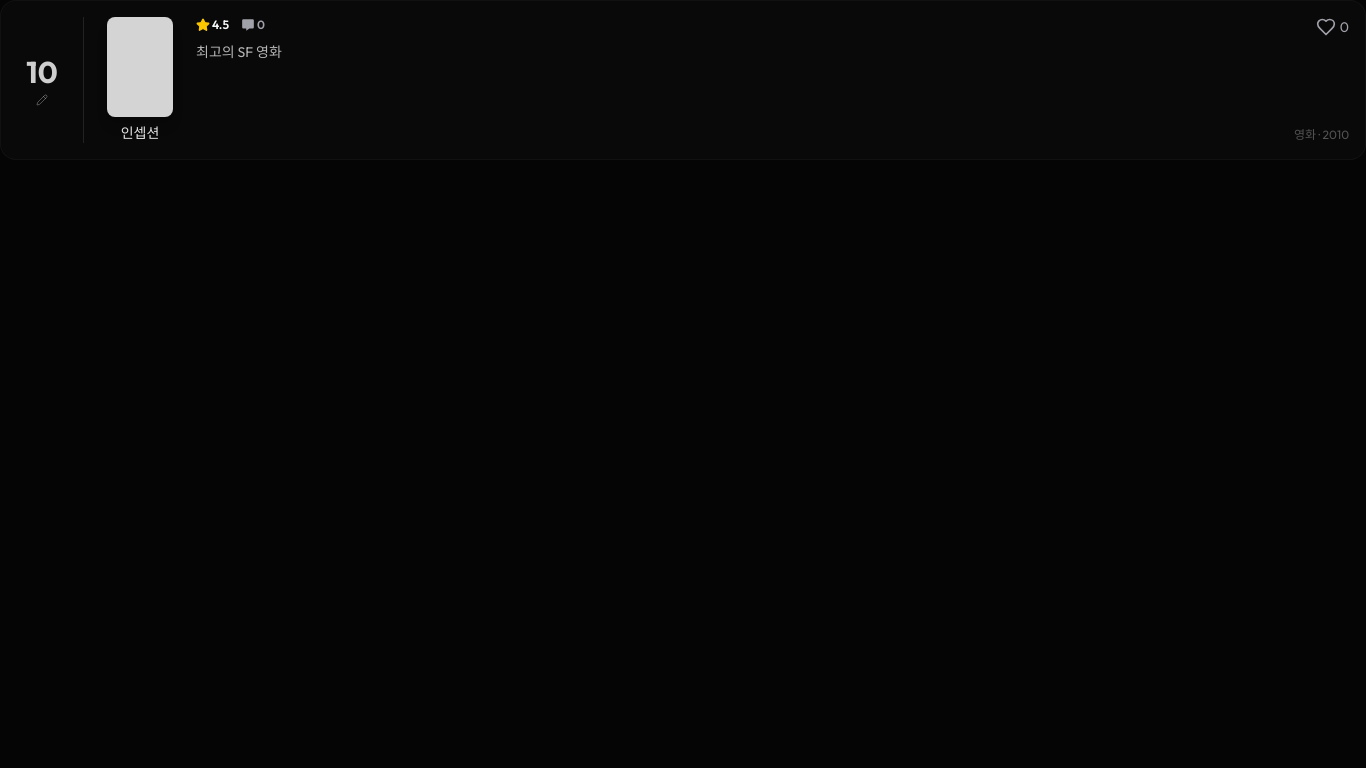
Test case: WatchlistCard › 리뷰가 있는 감상 기록 수정 › 좋아요 후 수정 모달을 열면 최신 좋아요 수로 초기화 경고를 표시해야 한다
Click the button named "좋아요" at [1332, 27], box [1316, 17, 1349, 37]
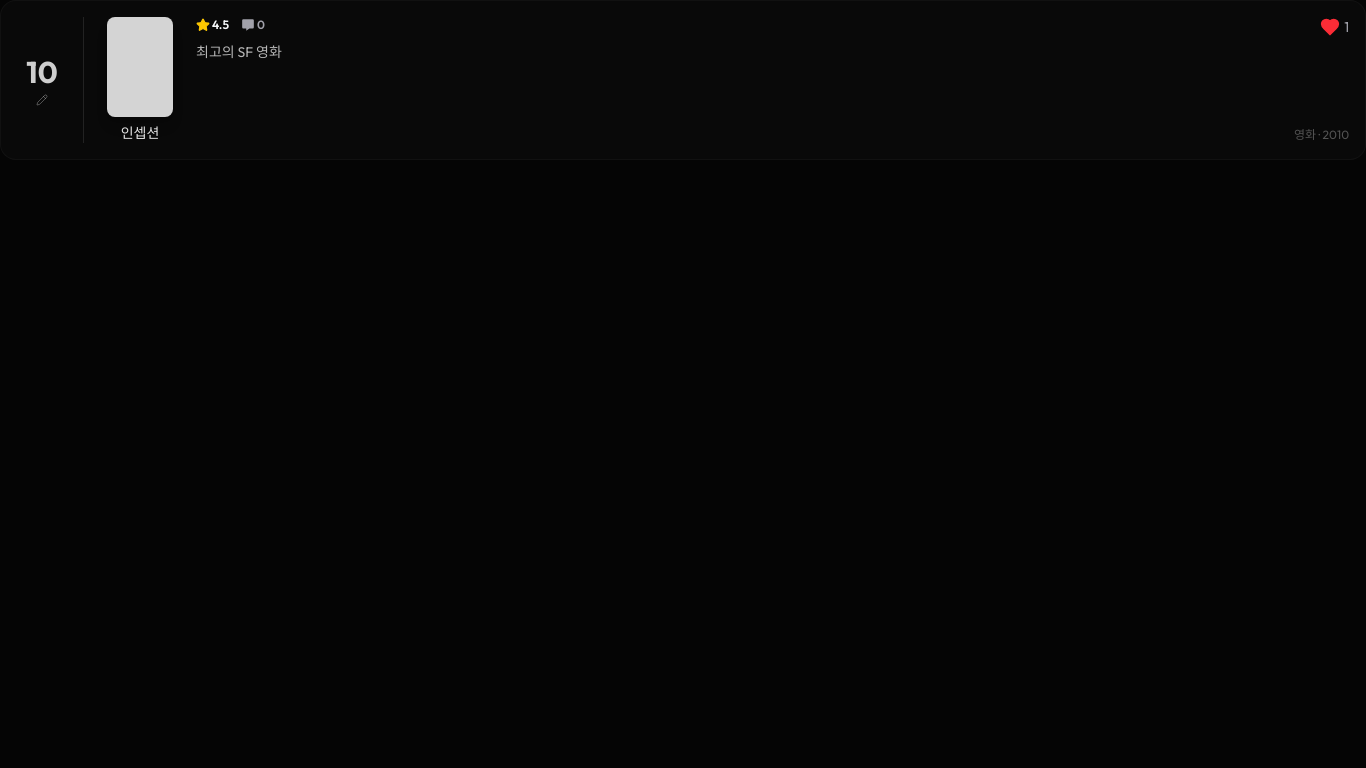
Check: the button named "좋아요" reads "1", box [1320, 17, 1349, 37]
Click the button titled "감상 기록 수정" at [42, 80], box [17, 17, 67, 143]
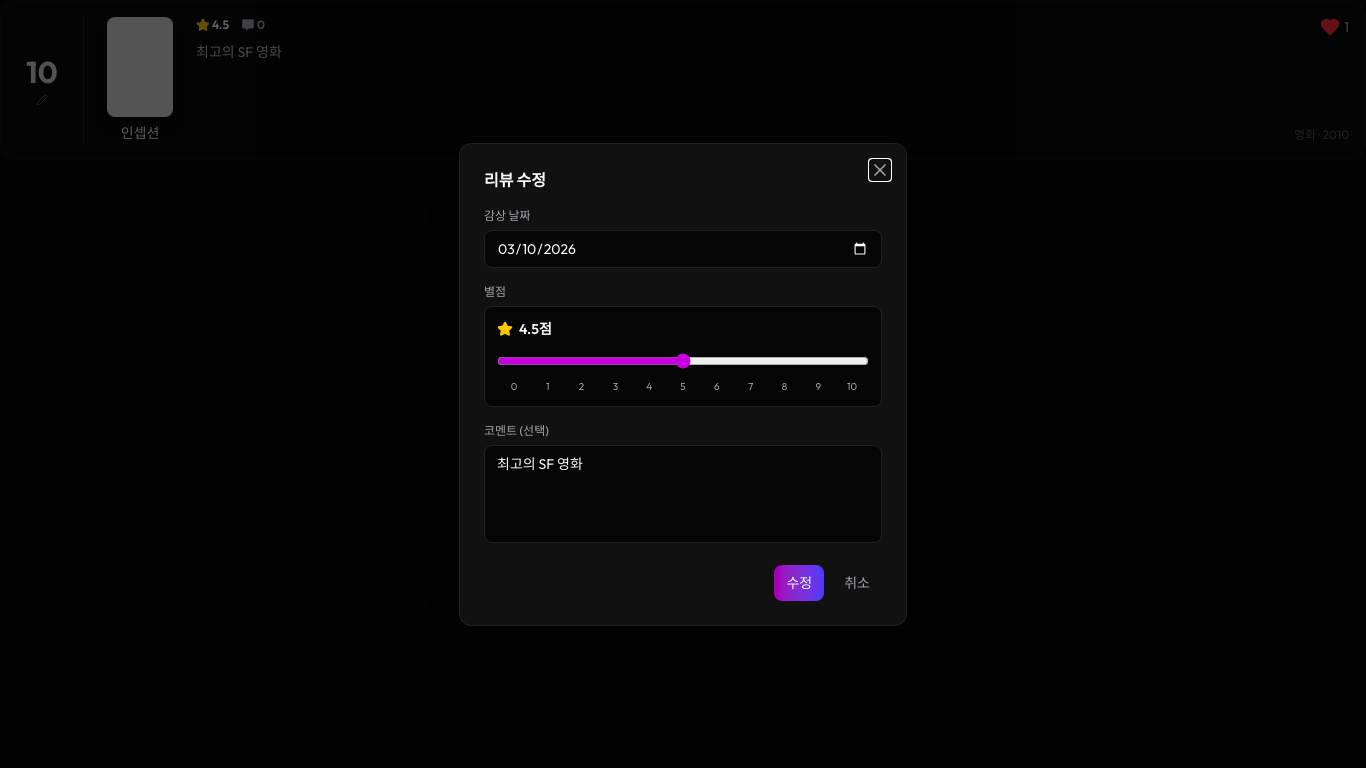
Set the slider named "별점 선택" to "8" at [790, 360], box [497, 356, 869, 364]
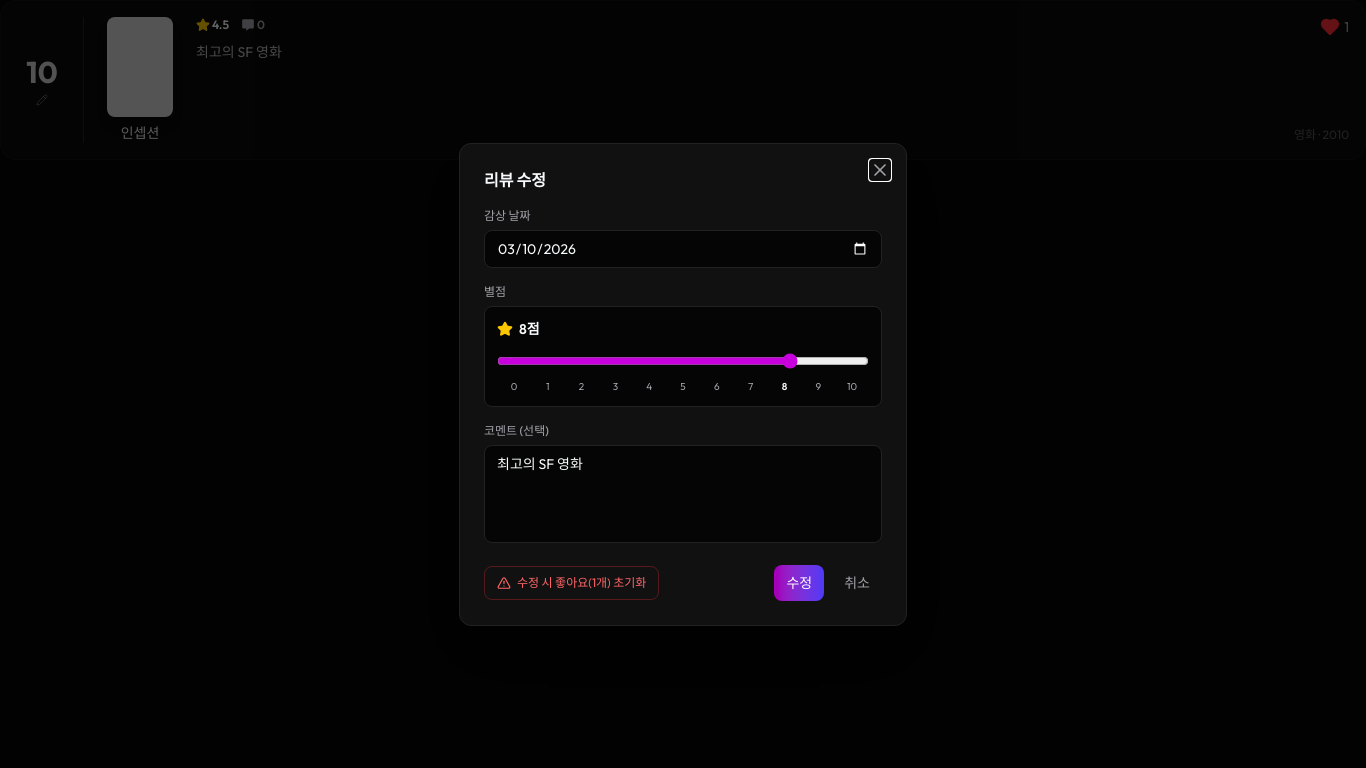
Check: the text "수정 시 좋아요(1개) 초기화" is shown, box [484, 566, 659, 600]
